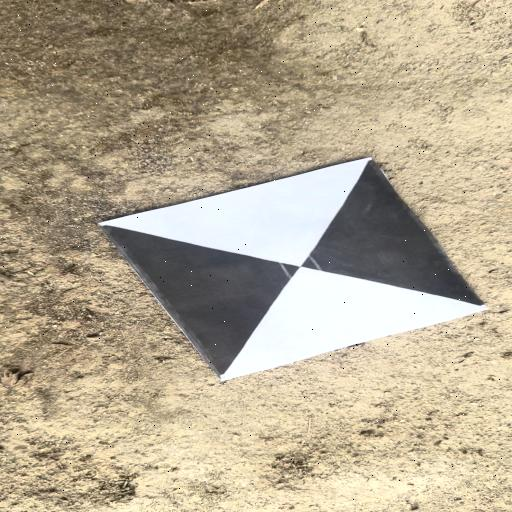target: (101, 156, 488, 383)
